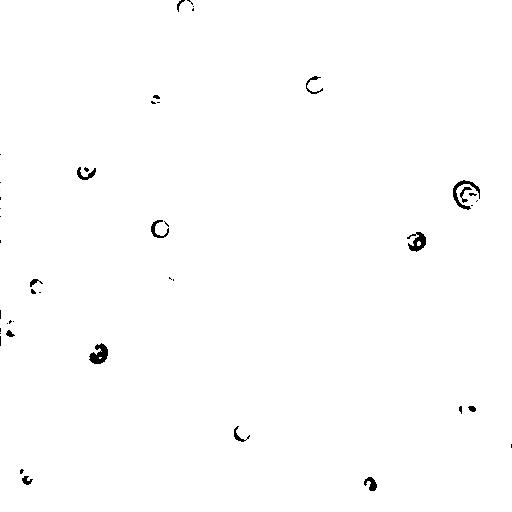micro-algae: (354, 35, 411, 93), (4, 459, 43, 494), (1, 305, 31, 343), (17, 271, 51, 304), (161, 259, 193, 289), (452, 179, 481, 211), (403, 229, 429, 254), (85, 340, 111, 365), (76, 159, 98, 181), (461, 399, 485, 419), (149, 217, 169, 239), (305, 75, 326, 94), (233, 421, 251, 443), (176, 0, 196, 18), (361, 474, 379, 493), (503, 435, 512, 453)
